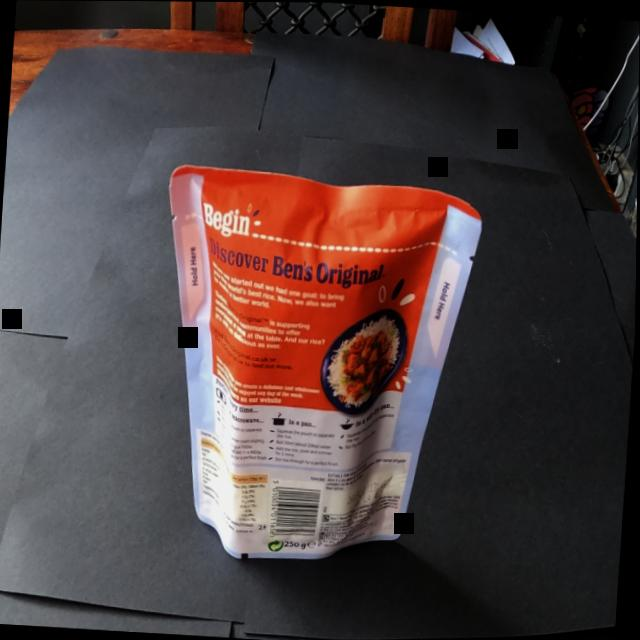Basmatirice: (135, 148, 509, 588)
